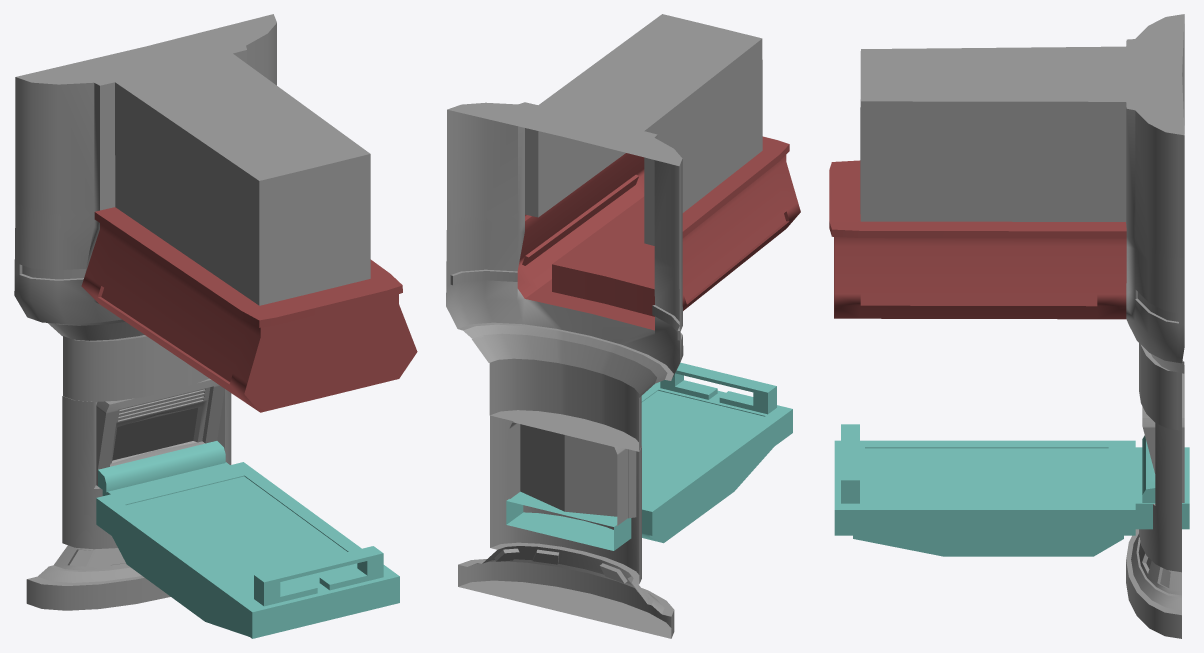
The model's file is lab_infirmary_bed_01.fbx.
3 renders of one model, left to right at view 1: azimuth 30°, elevation 25°; view 2: azimuth 150°, elevation 25°; view 3: azimuth 270°, elevation 25°, orthographic. The views are drawn at different scales.
Visible parts, largest first — view 1: lab_infirmary_bed_01; view 2: lab_infirmary_bed_01; view 3: lab_infirmary_bed_01.
Part boxes in pixels (x1=…): lab_infirmary_bed_01: x1=14, y1=14, x2=417, y2=638; lab_infirmary_bed_01: x1=446, y1=14, x2=800, y2=638; lab_infirmary_bed_01: x1=829, y1=14, x2=1189, y2=638.
Size of the model in its own units: 2.84 by 5.51 by 3.53.
